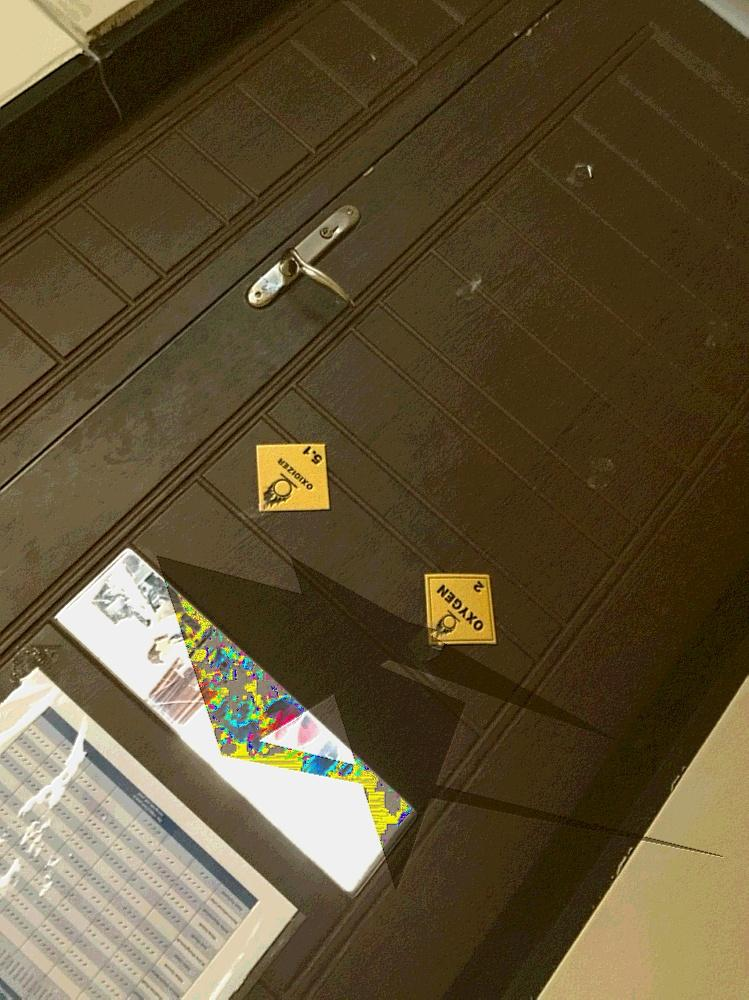oxidizer: (424, 571, 499, 645), (256, 441, 329, 513)
